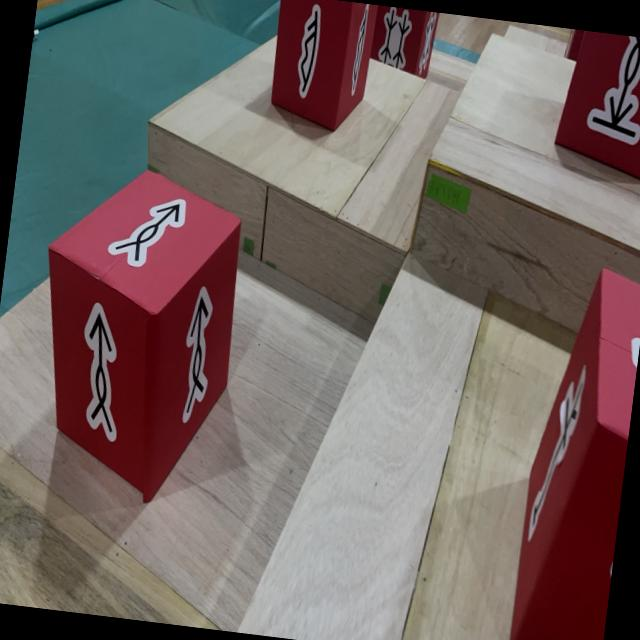11: (293, 2, 324, 100), (349, 3, 369, 97)
12: (71, 300, 132, 442), (105, 189, 188, 272), (174, 282, 220, 426)
6: (376, 6, 414, 68), (418, 10, 436, 74)
7: (583, 32, 640, 147)
9: (526, 360, 587, 546)
fighter: (17, 157, 252, 512), (505, 260, 640, 640), (264, 0, 378, 136), (549, 28, 640, 185), (368, 5, 438, 80), (566, 28, 586, 62)
